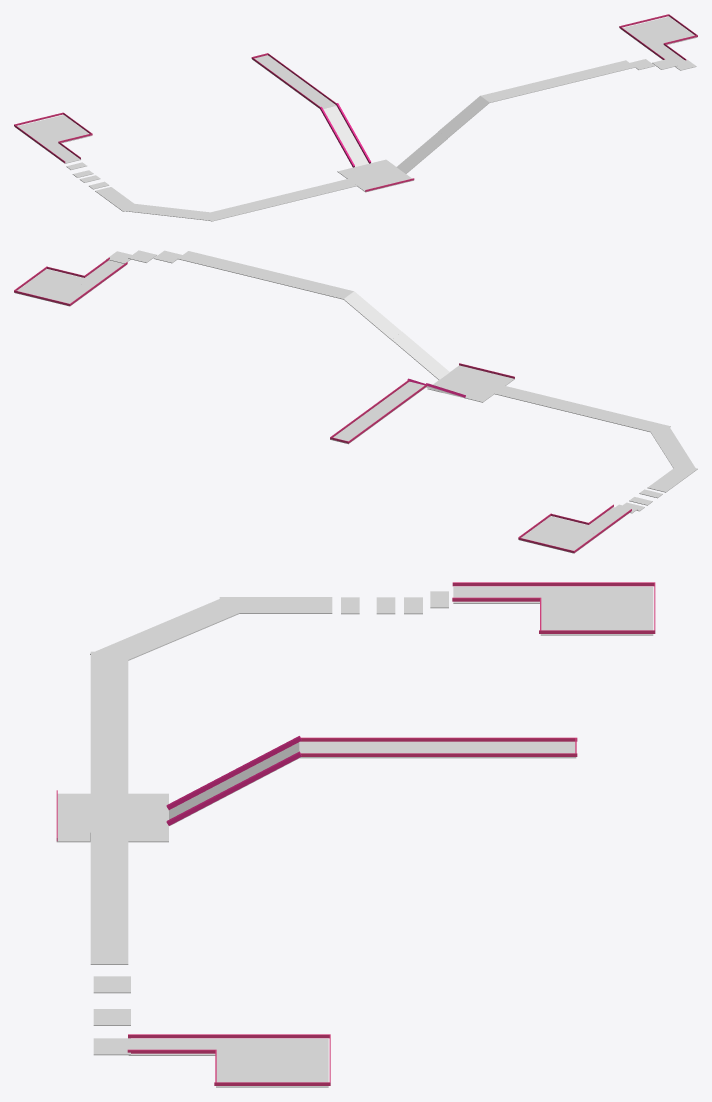
Rendered from Level 2 finished.fbx.
3 renders of one model, top to bottom at view 1: azimuth 30°, elevation 25°; view 2: azimuth 150°, elevation 25°; view 3: azimuth 270°, elevation 25°, orthographic. The views are drawn at different scales.
Parts seen in each view (by area): view 1: Cube.002, Cube.023, Cube.042, Cube, Cube.001, Cube.022, Cube.011, Cube.009, Cube.029, Cube.014, Cube.012, Cube.013 (+5 smaller); view 2: Cube.002, Cube.042, Cube.023, Cube, Cube.022, Cube.011, Cube.009, Cube.030, Cube.013, Cube.012, Cube.029, Cube.015 (+4 smaller); view 3: Cube.023, Cube.002, Cube.042, Cube, Cube.022, Cube.030, Cube.015, Cube.012, Cube.014, Cube.013, Cube.029, Cube.020 (+9 smaller).
Boxes of the visible parts, <box> form: Cube.002: <box>337,159,414,192</box>; Cube.023: <box>15,115,91,147</box>; Cube.042: <box>621,16,697,49</box>; Cube: <box>252,55,336,108</box>; Cube.001: <box>323,106,368,166</box>; Cube.022: <box>123,203,218,221</box>; Cube.011: <box>438,96,489,138</box>; Cube.009: <box>396,132,447,173</box>; Cube.029: <box>529,72,586,91</box>; Cube.014: <box>251,191,308,209</box>; Cube.012: <box>480,84,537,102</box>; Cube.013: <box>299,179,356,197</box>; Cube.002: <box>427,365,514,402</box>; Cube.042: <box>15,269,101,306</box>; Cube.023: <box>519,516,605,553</box>; Cube: <box>330,381,426,444</box>; Cube.022: <box>650,427,695,471</box>; Cube.011: <box>343,291,401,339</box>; Cube.009: <box>392,332,449,379</box>; Cube.030: <box>178,251,243,272</box>; Cube.013: <box>494,386,559,407</box>; Cube.012: <box>288,278,353,299</box>; Cube.029: <box>233,264,298,285</box>; Cube.015: <box>605,413,670,433</box>; Cube.023: <box>540,587,653,635</box>; Cube.002: <box>56,793,168,842</box>; Cube.042: <box>216,1039,328,1087</box>; Cube: <box>299,741,576,758</box>; Cube.022: <box>90,597,248,663</box>; Cube.030: <box>90,916,128,964</box>; Cube.015: <box>90,651,128,699</box>; Cube.012: <box>90,821,128,869</box>; Cube.014: <box>90,698,128,746</box>; Cube.013: <box>90,746,128,793</box>; Cube.029: <box>90,869,128,916</box>; Cube.020: <box>219,597,332,613</box>.
Bounding box in the file's own units: 7059 × 605 × 3191.
